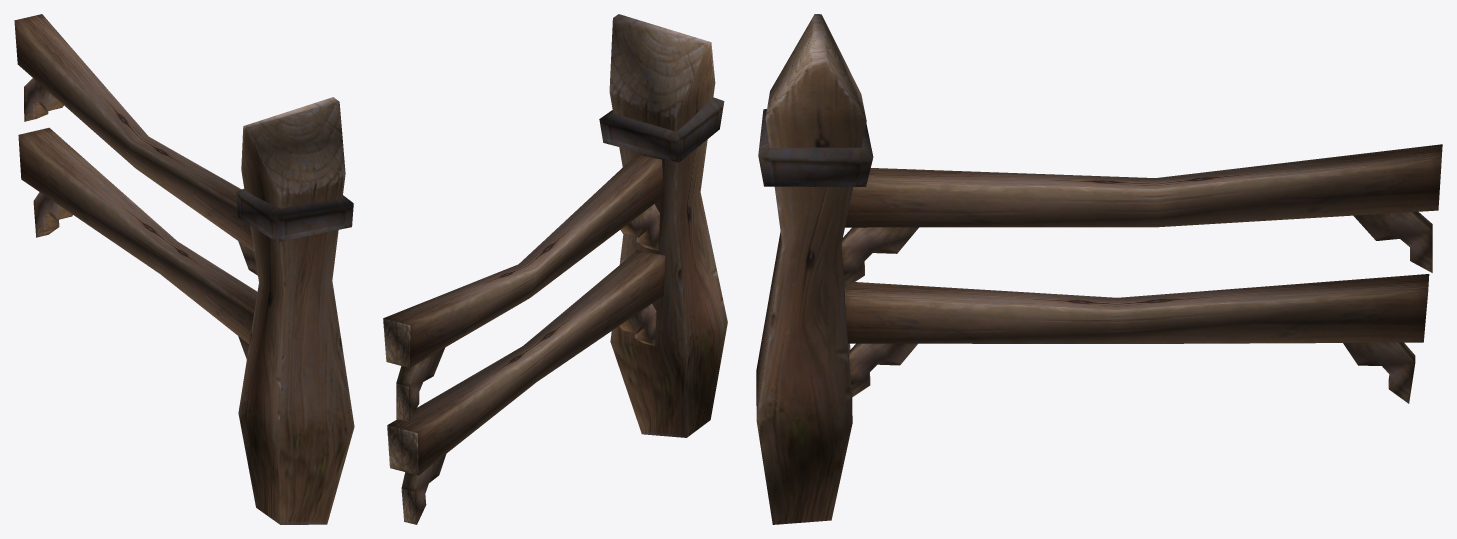
File: hu_fence01_northrend.obj
3 renders of one model, left to right at view 1: azimuth 30°, elevation 25°; view 2: azimuth 150°, elevation 25°; view 3: azimuth 270°, elevation 25°, orthographic. The views are drawn at different scales.
Visible parts, largest first — view 1: HU_FENCE01_NORTHREND0; view 2: HU_FENCE01_NORTHREND0; view 3: HU_FENCE01_NORTHREND0.
Boxes of the visible parts, x1,y1,x2,y2 form: HU_FENCE01_NORTHREND0: (14,14,354,524); HU_FENCE01_NORTHREND0: (383,14,727,524); HU_FENCE01_NORTHREND0: (756,14,1442,524).
Bounding box in the file's own units: 0.5049 × 2.11 × 2.73.
1 material, 1 textured.
